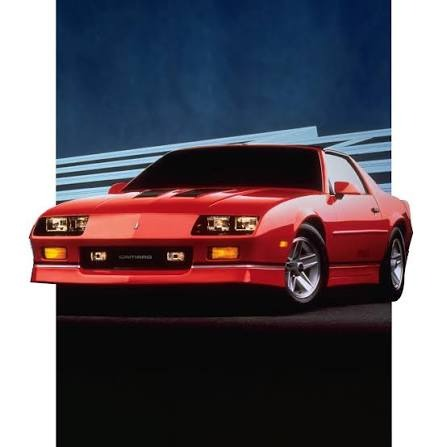car: (29, 6, 418, 204), (30, 137, 415, 304)
